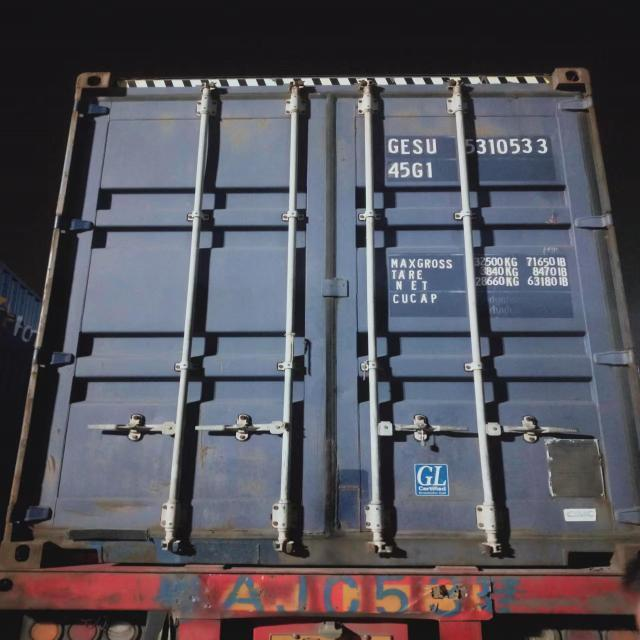ISO: (380, 162, 445, 180)
container_number: (388, 133, 552, 160)
